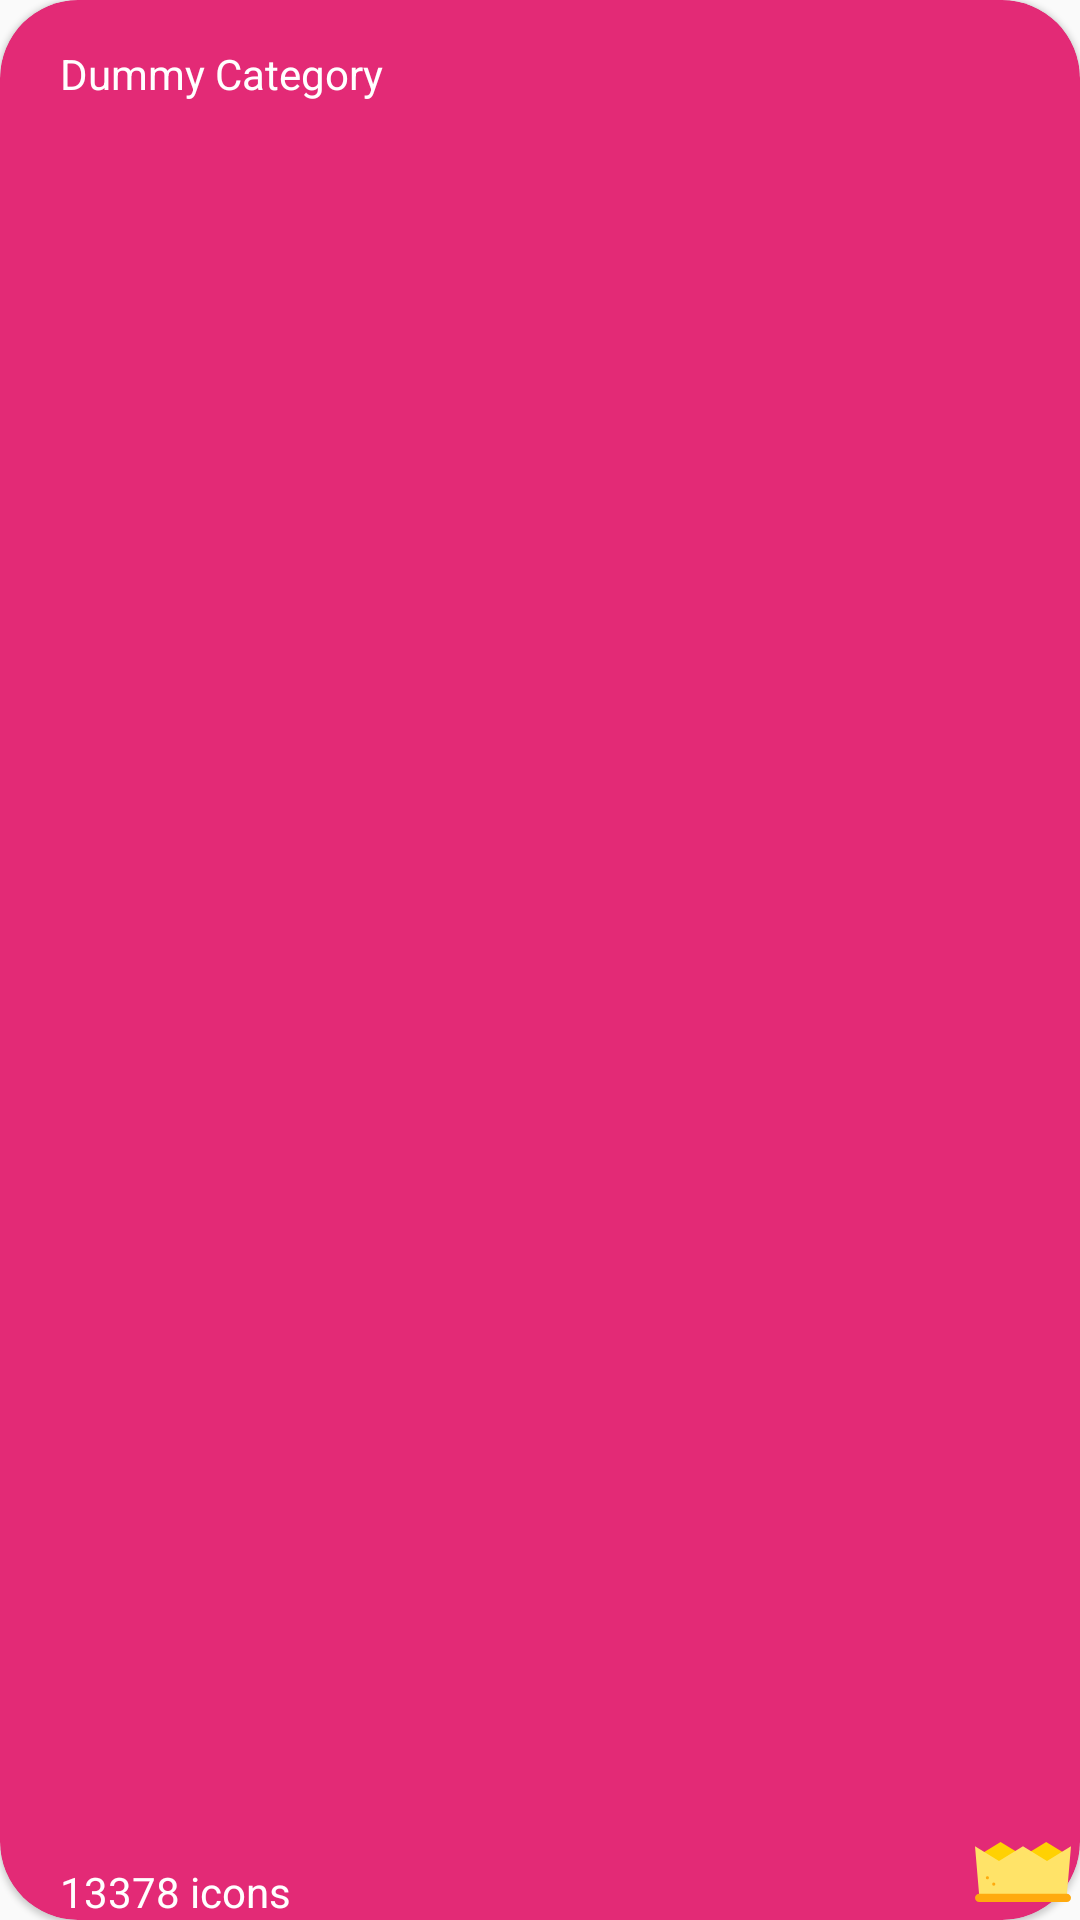

Icons on this 1080x1920 Android screen, each with its box as bbox(x1, y1, x2, y2):
premium: bbox(975, 1842, 1080, 1920)
